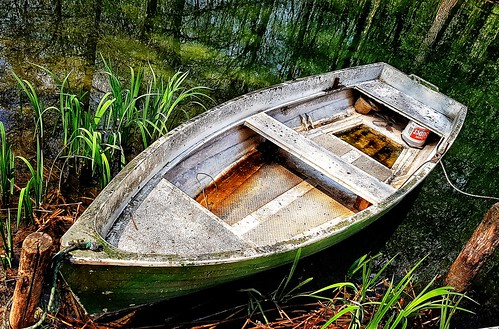boat: (74, 65, 468, 290)
river: (28, 1, 499, 90)
vegetation: (1, 72, 179, 276)
